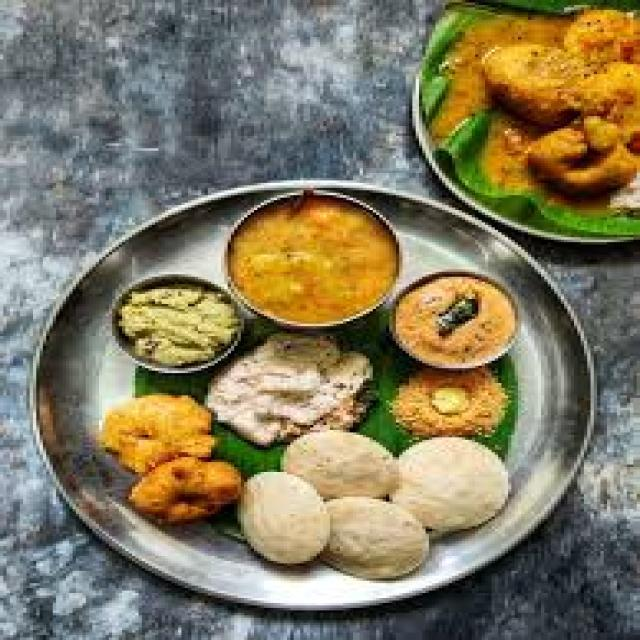dal: (211, 188, 413, 332)
papad: (444, 10, 636, 119)
rice: (203, 331, 385, 448)
sweet: (374, 268, 538, 382), (393, 435, 514, 534)
